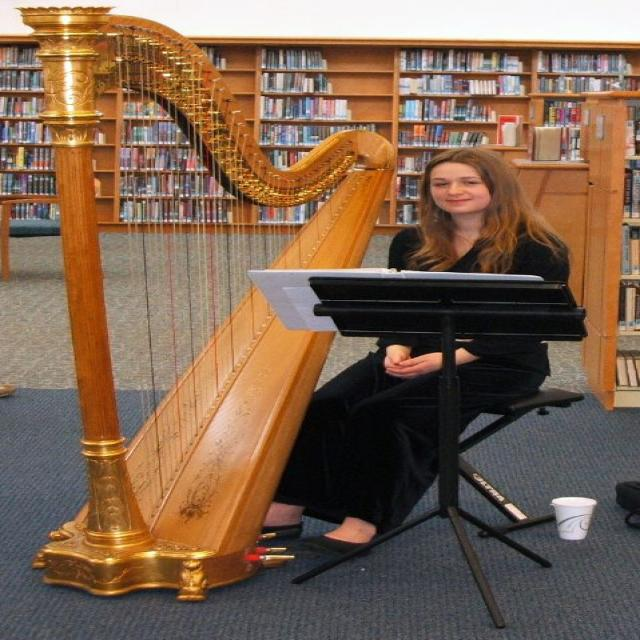harp: (7, 2, 414, 604)
